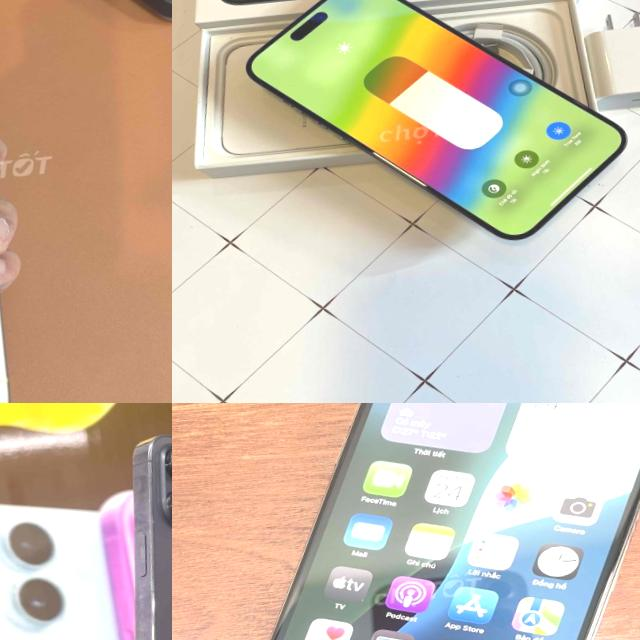gen_14: (94, 412, 172, 640)
gen_15: (217, 0, 640, 273), (0, 0, 39, 403)
gen_x_xs: (268, 403, 640, 640)
